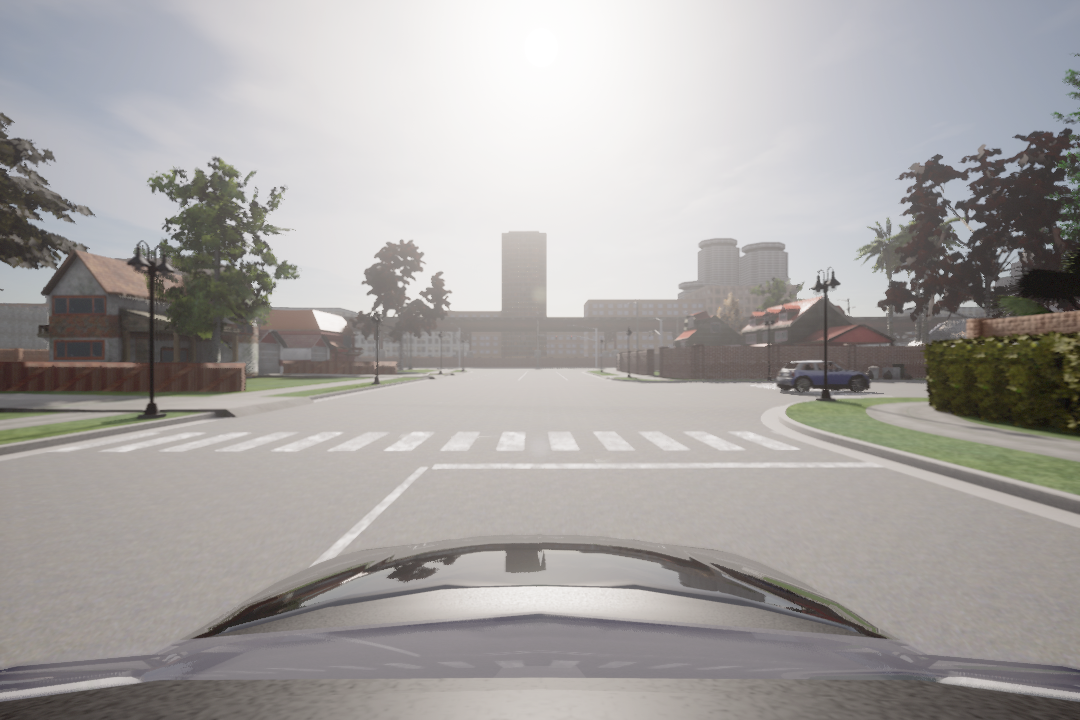walkside: (54, 420, 804, 463)
